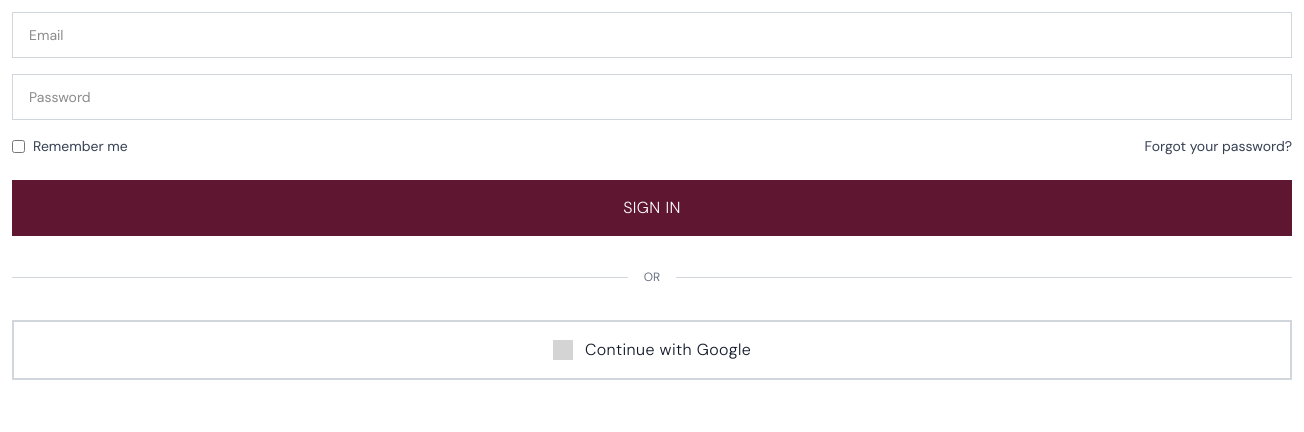
SignInForm › Interactions › shows an error when forgot password is clicked without an email
This screenshot has width=1304, height=432.
Click the button "Forgot your password?": [1218, 146] box [1144,136,1292,156]
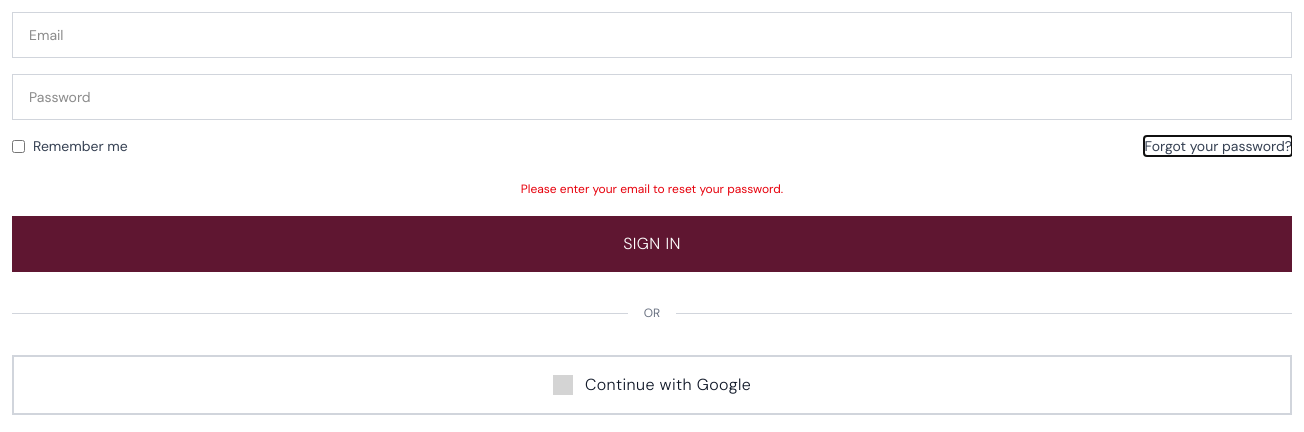
Check: the message reads "Please enter your email to reset your password.", box [521,181,783,197]
